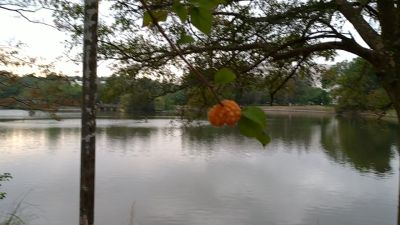eggs: (206, 98, 243, 128)
